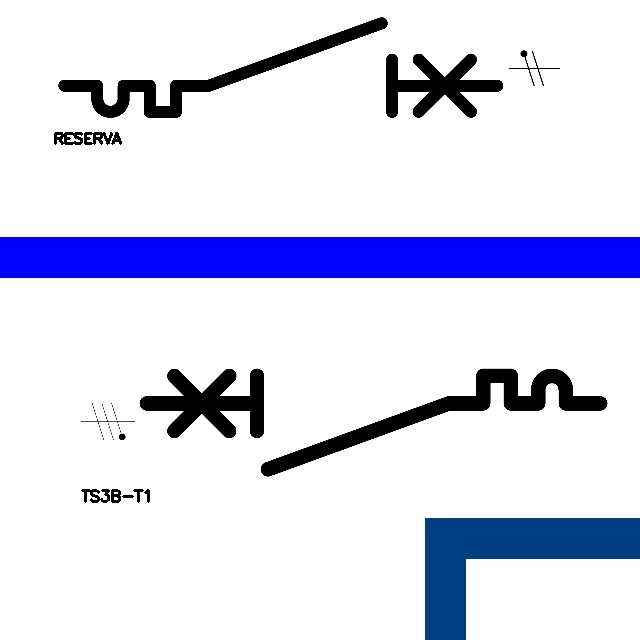interruptor_termomagnetico: (134, 364, 611, 481), (53, 12, 508, 123)
